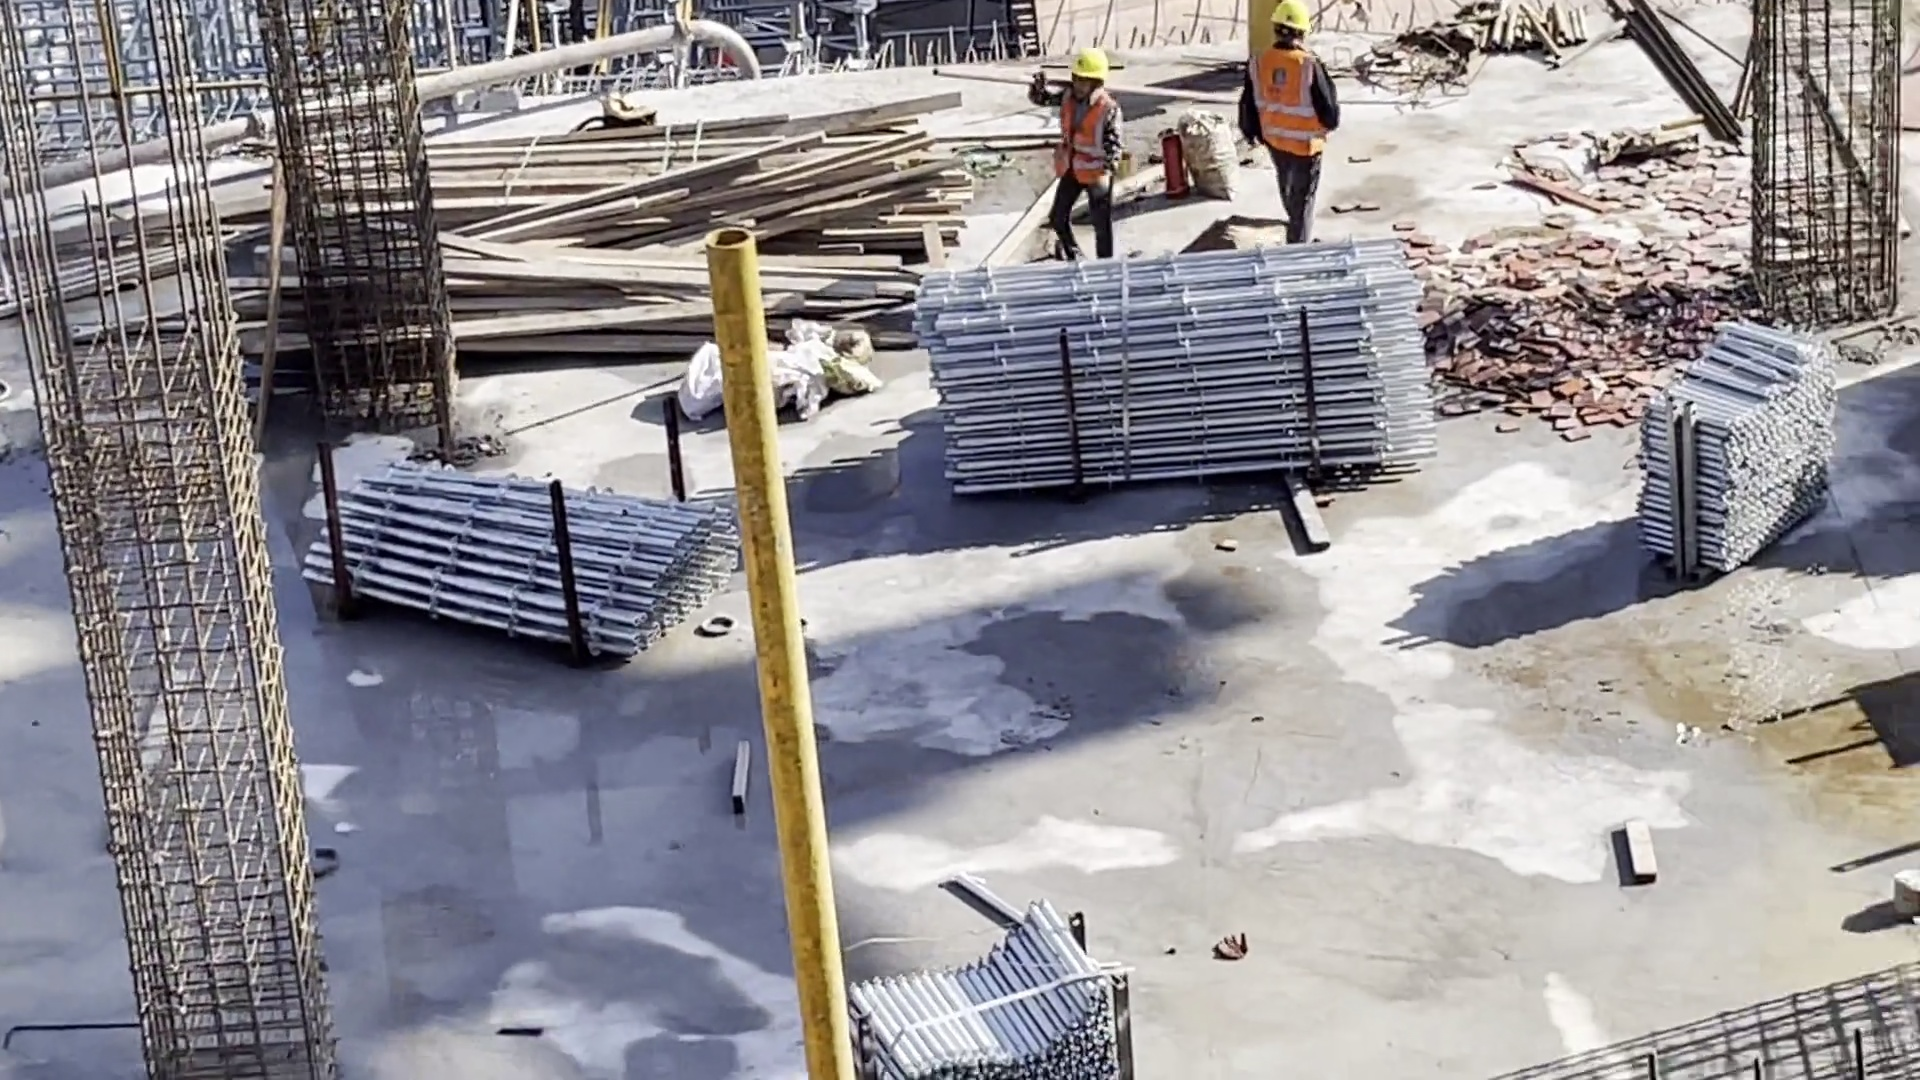helmet: (1068, 46, 1112, 82), (1269, 1, 1313, 36)
person: (1236, 1, 1342, 248), (1029, 46, 1124, 256)
scaffold: (917, 236, 1441, 511), (299, 456, 741, 663), (1635, 328, 1841, 583), (849, 893, 1126, 1080)
vest: (1251, 48, 1324, 159), (1053, 82, 1114, 197)
wood: (431, 84, 953, 355)
